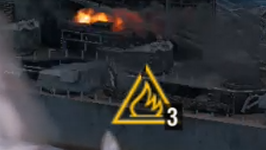3fire: (108, 88, 184, 132)
